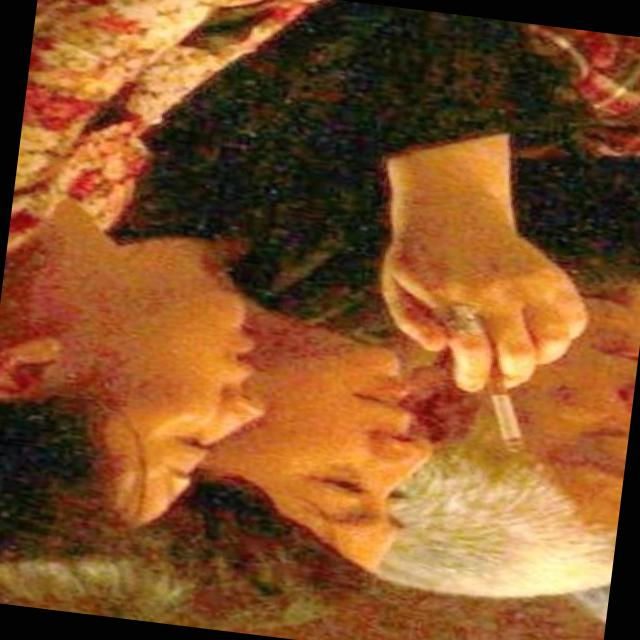cigarette: (468, 366, 528, 448)
